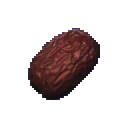gd: (15, 18, 116, 112)
